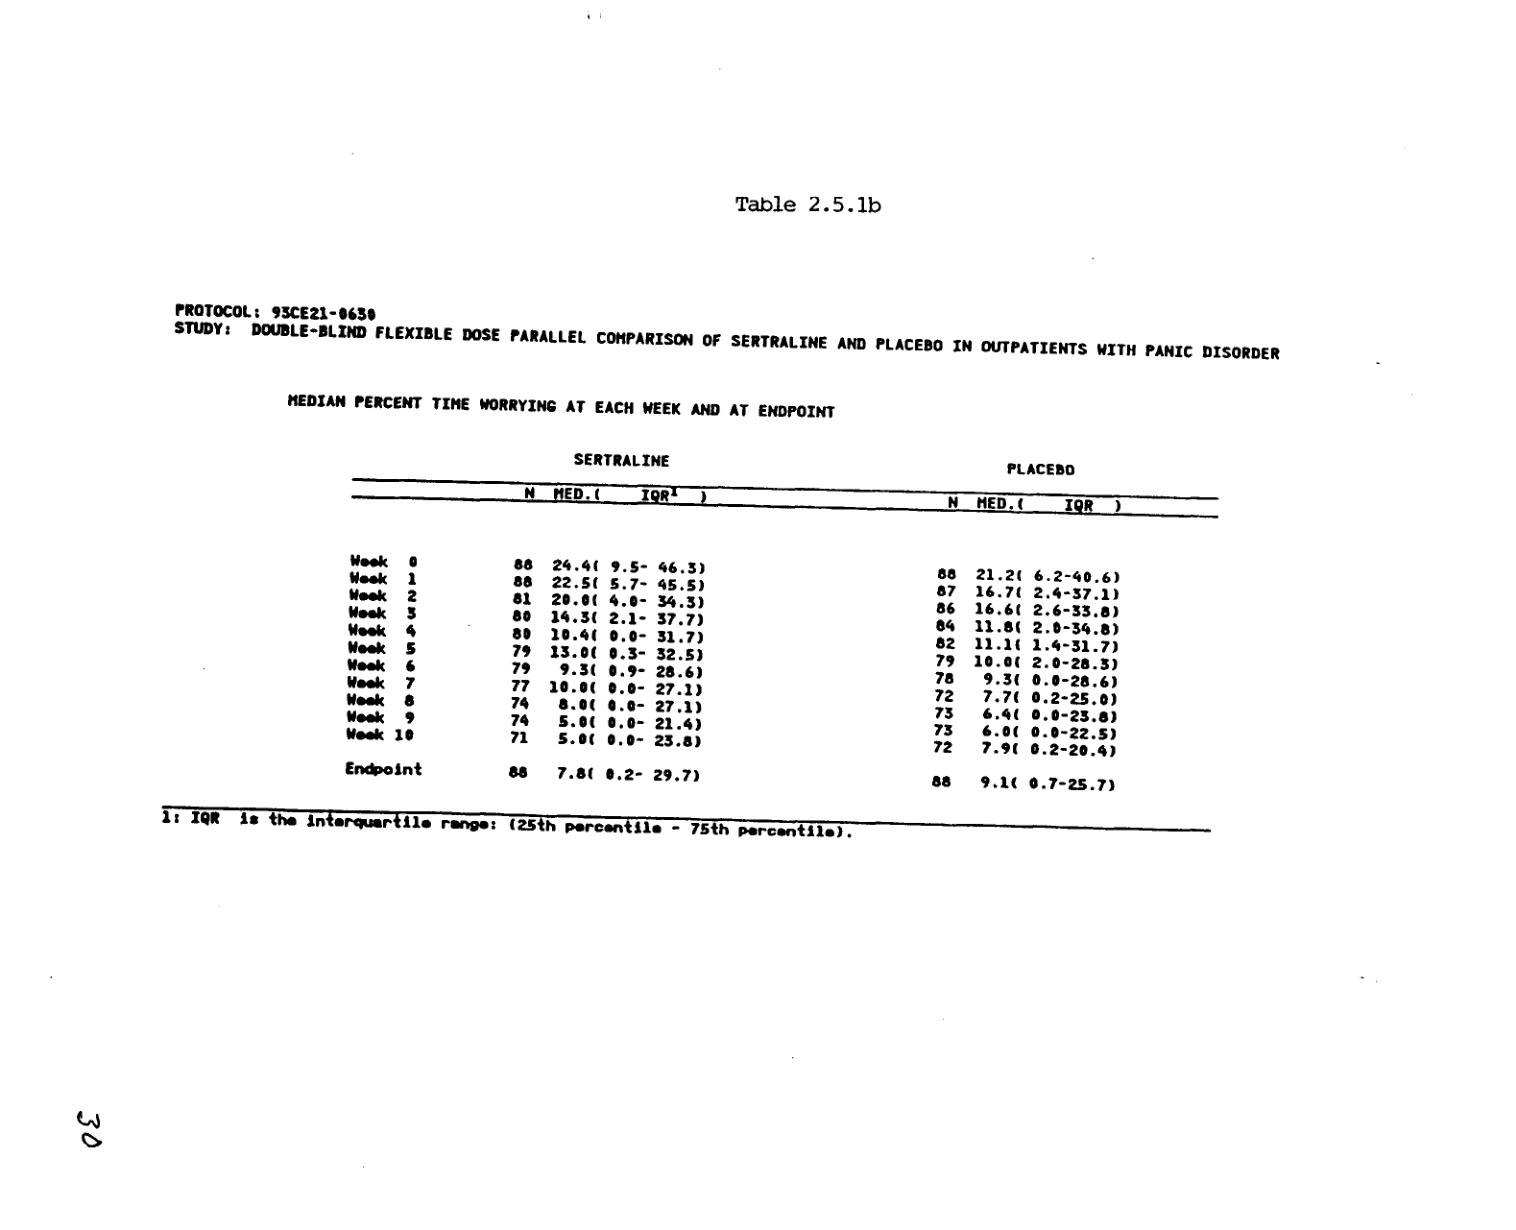partial_lined_merged_cells: (338, 448, 1219, 797)
